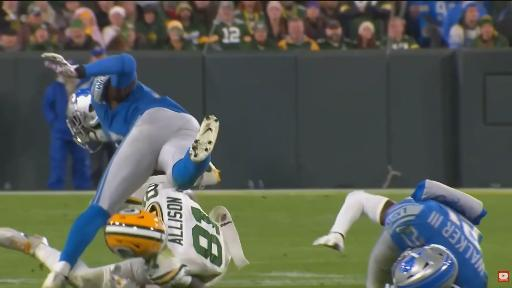Helmet: (105, 209, 167, 258), (392, 245, 458, 287), (67, 89, 107, 152)
Jersey: (385, 199, 487, 287), (143, 183, 229, 282), (90, 76, 187, 143)
Player: (43, 54, 218, 287), (68, 183, 248, 287), (314, 180, 487, 287), (387, 245, 458, 287), (127, 174, 166, 204)
